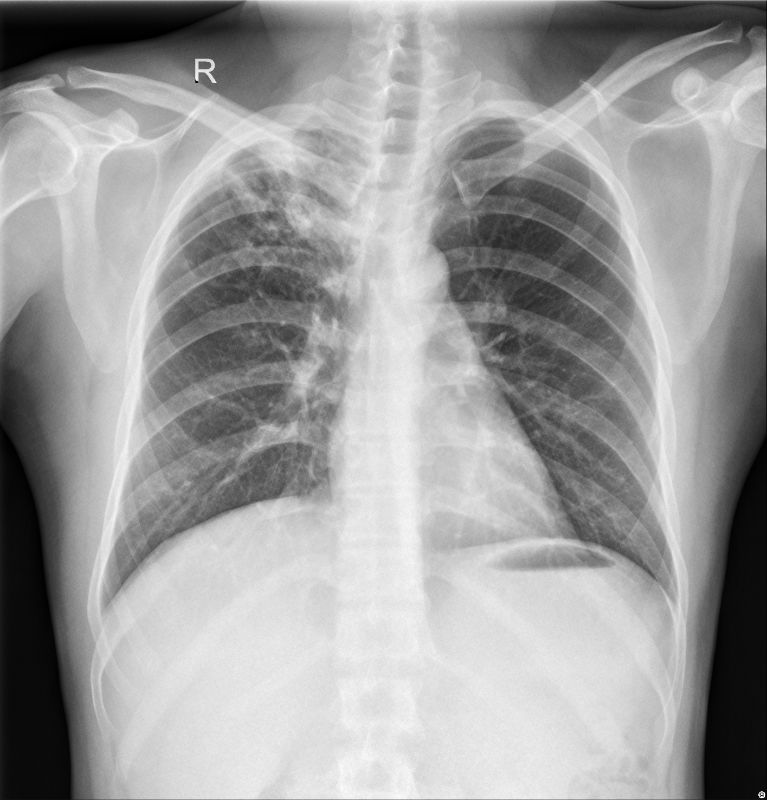Tuberculosis (TB): (226, 124, 326, 260)
